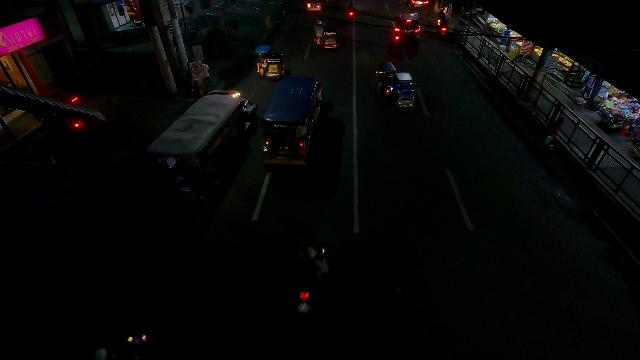car: (391, 10, 422, 45), (407, 0, 429, 9)
jeepney: (145, 89, 252, 196), (261, 74, 323, 168)
motorcycle: (436, 7, 447, 29), (439, 16, 448, 39), (347, 3, 355, 21)
